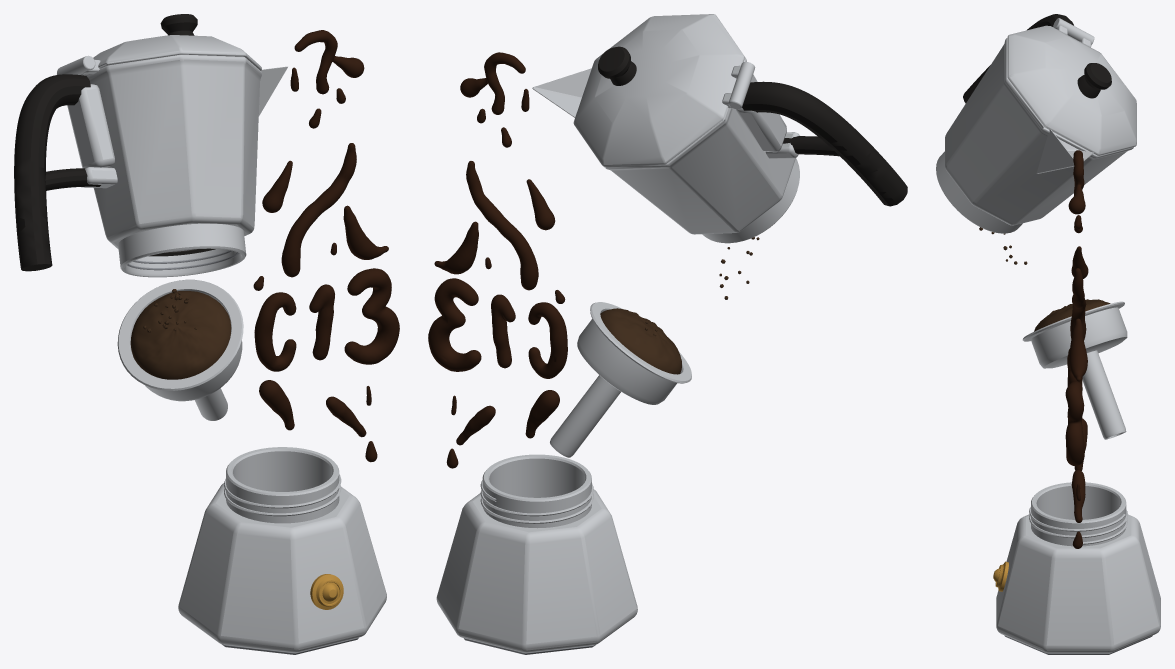
The model's file is coffee-grinder.glb.
3 renders of one model, left to right at view 1: azimuth 30°, elevation 25°; view 2: azimuth 150°, elevation 25°; view 3: azimuth 270°, elevation 25°, orthographic. The views are drawn at different scales.
Visible parts, largest first — view 1: boiler, coffee, handle, grounds_heap, handle_bracket, valve, knob, skirt_thread; view 2: boiler, coffee, handle, grounds_heap, handle_bracket, knob; view 3: boiler, coffee, knob, grounds_heap, handle, handle_bracket.
Part boxes in pixels (x1=…): boiler: x1=80, y1=35, x2=386, y2=652; coffee: x1=253, y1=30, x2=399, y2=462; handle: x1=14, y1=74, x2=100, y2=271; grounds_heap: x1=130, y1=291, x2=231, y2=379; handle_bracket: x1=57, y1=55, x2=117, y2=188; valve: x1=310, y1=574, x2=343, y2=609; knob: x1=160, y1=14, x2=197, y2=35; skirt_thread: x1=127, y1=250, x2=239, y2=270; boiler: x1=436, y1=14, x2=799, y2=652; coffee: x1=428, y1=52, x2=567, y2=468; handle: x1=742, y1=81, x2=907, y2=206; grounds_heap: x1=600, y1=308, x2=681, y2=374; handle_bracket: x1=722, y1=62, x2=799, y2=158; knob: x1=598, y1=46, x2=636, y2=85; boiler: x1=936, y1=25, x2=1160, y2=653; coffee: x1=1065, y1=150, x2=1088, y2=548; knob: x1=1077, y1=63, x2=1111, y2=98; grounds_heap: x1=1034, y1=299, x2=1110, y2=331; handle: x1=963, y1=14, x2=1073, y2=103; handle_bracket: x1=1053, y1=18, x2=1094, y2=47.
Bounding box in the file's own units: 0.2373 × 0.3289 × 0.1262.
9 materials, 1 textured.
